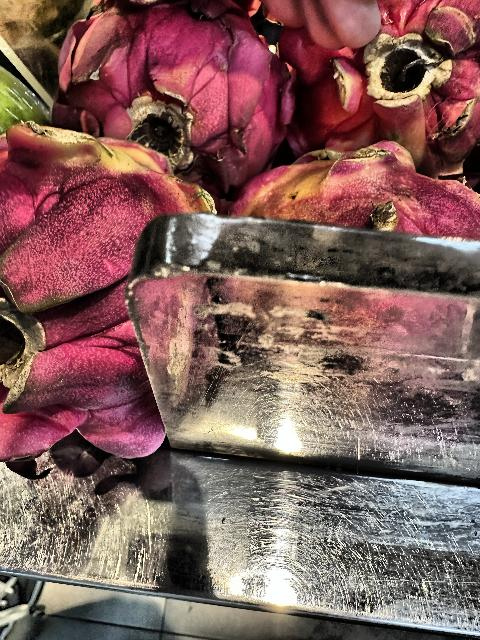buah-naga-belum-matang: (0, 102, 218, 492), (218, 126, 480, 428)
buah-naga-matang: (48, 0, 302, 182), (292, 0, 480, 180)
